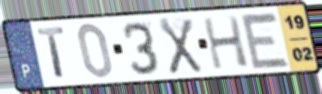0: (75, 22, 114, 80)
3: (122, 20, 161, 77)
E: (238, 12, 292, 71)
H: (200, 14, 251, 72)
T: (35, 25, 67, 81)
X: (156, 17, 204, 76)
